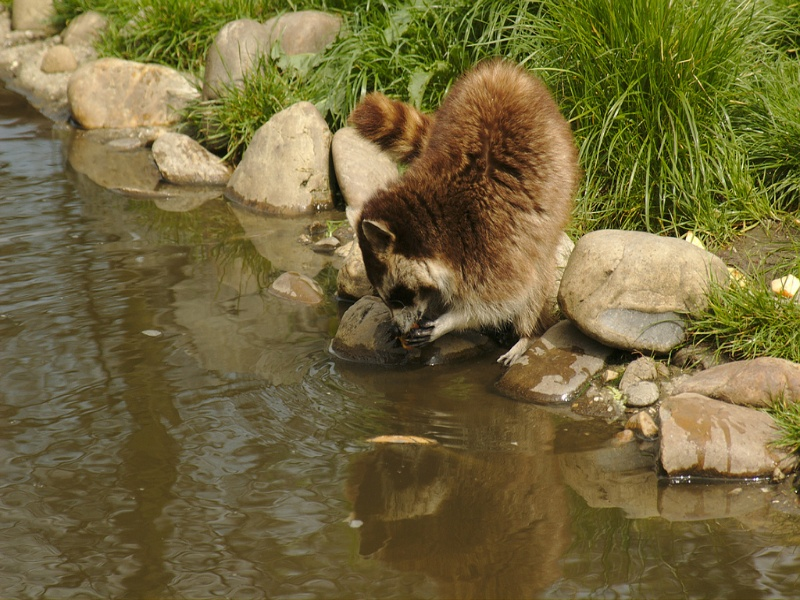raccoon: (350, 60, 583, 382)
